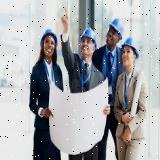Helmet: (80, 27, 98, 50), (121, 36, 139, 59), (109, 16, 125, 41), (40, 28, 58, 47)
